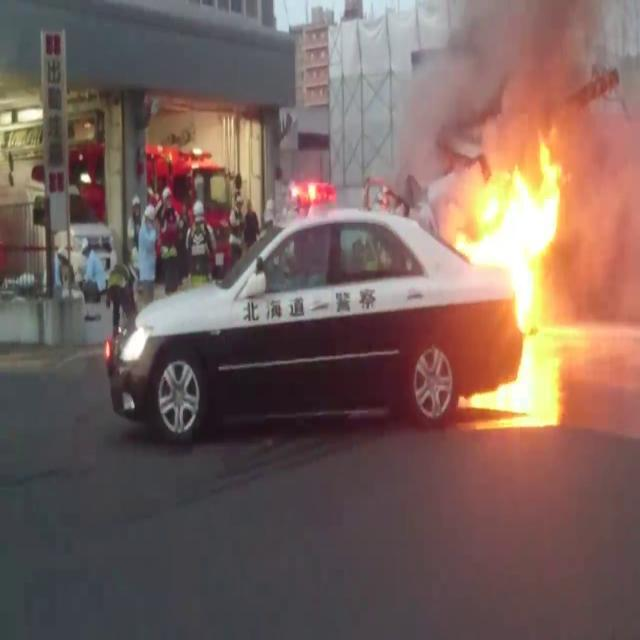Fire: (462, 157, 560, 386)
Smoke: (437, 1, 619, 153), (564, 159, 634, 313)
